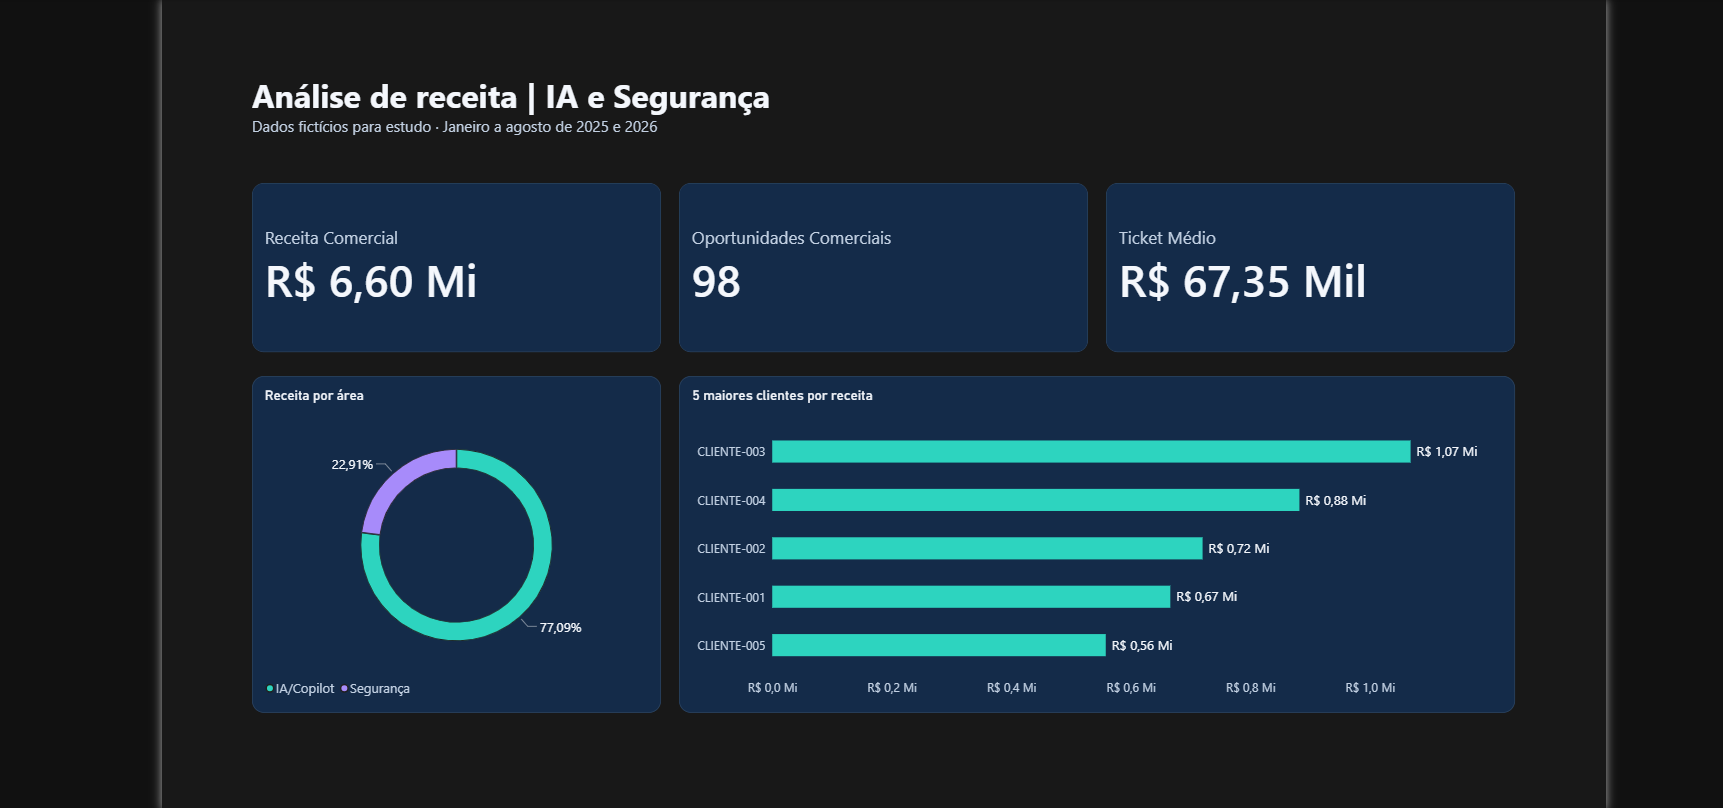

This screenshot's page, from the dashboard's own definition file:
{"tool":"powerbi","page":{"name":"Página 1","canvas":[1920,1080],"ordinal":0},"visuals":[{"type":"cardVisual","fields":{"Data":["Oportunidades.Receita Comercial"]},"box":[120,245,544,225],"z":0},{"type":"cardVisual","fields":{"Data":["Oportunidades.Oportunidades Comerciais"]},"box":[688,245,544,225],"z":1000},{"type":"cardVisual","fields":{"Data":["Oportunidades.Ticket Médio"]},"box":[1256,245,544,225],"z":2000},{"type":"donutChart","title":"Receita por área","fields":{"Category":["Oportunidades.Área"],"Y":["Oportunidades.Receita Comercial"]},"box":[120,502,544,448],"z":3000},{"type":"barChart","title":"5 maiores clientes por receita","fields":{"Category":["Oportunidades.cliente_id"],"Y":["Oportunidades.Receita Comercial"]},"box":[688,502,1112,448],"z":4000},{"type":"textbox","box":[120,98,1680,124],"z":5000}]}

Visuals, with their boxes on the page's 1920x1080 design canvas (x1, y1, x2, y2). These are canvas units, not pixel positions in the 1723x808 screenshot, which may show the page scaled, cropped or inside an application window:
cardVisual - Oportunidades.Receita Comercial: locate(120, 245, 664, 470)
cardVisual - Oportunidades.Oportunidades Comerciais: locate(688, 245, 1232, 470)
cardVisual - Oportunidades.Ticket Médio: locate(1256, 245, 1800, 470)
"Receita por área" donutChart: locate(120, 502, 664, 950)
"5 maiores clientes por receita" barChart: locate(688, 502, 1800, 950)
textbox: locate(120, 98, 1800, 222)
